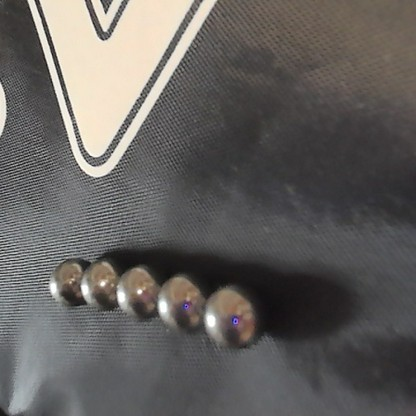ironball: (204, 283, 258, 350), (155, 272, 203, 334), (116, 261, 154, 320), (79, 257, 115, 306), (49, 256, 79, 308)
